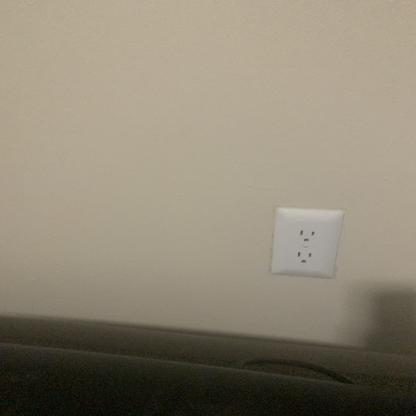OUTLET: (273, 208, 341, 278)
